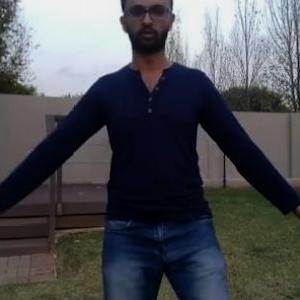land: (24, 6, 279, 299)
